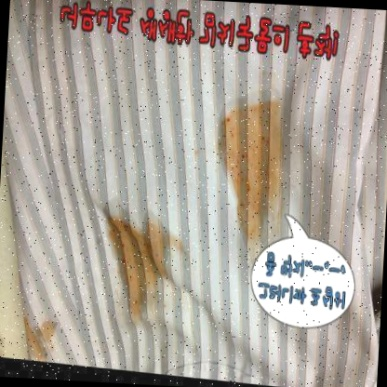kimchi: (97, 213, 188, 335), (210, 98, 284, 242), (23, 313, 64, 361)
